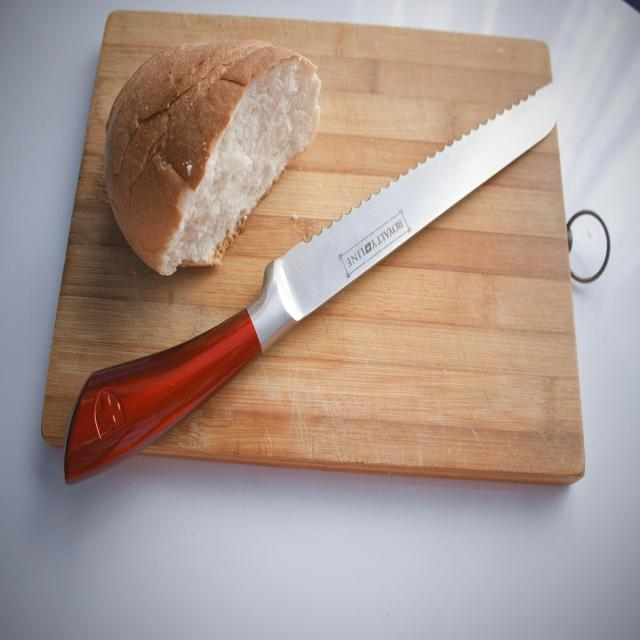Knife: (66, 84, 557, 481)
